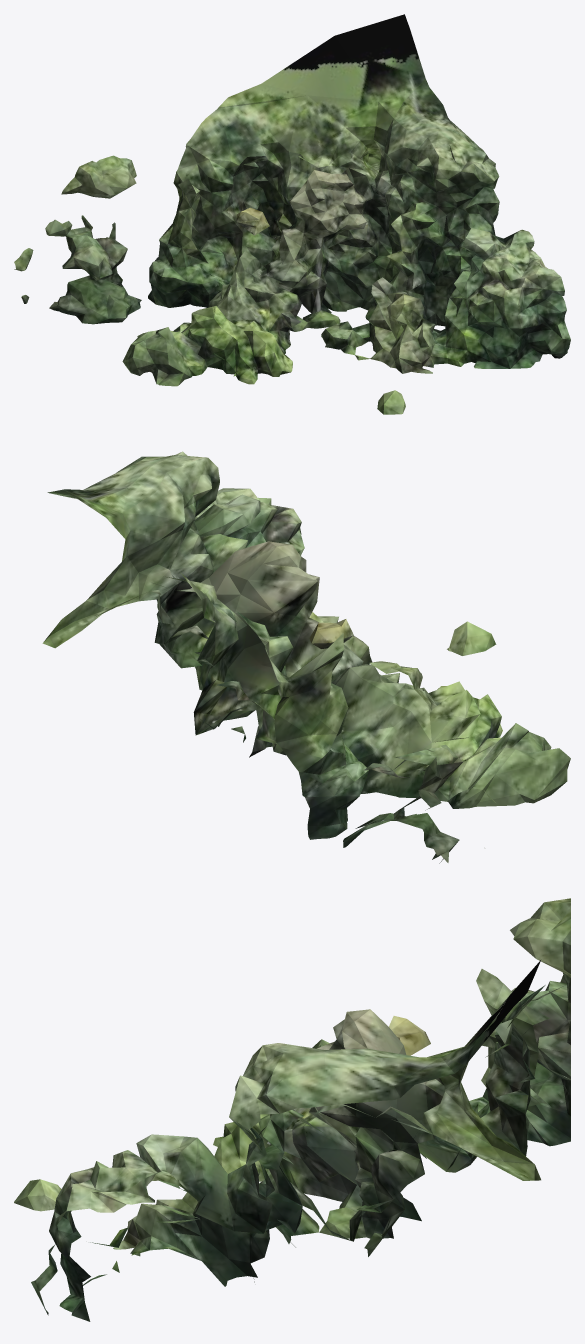
3 renders of one model, top to bottom at view 1: azimuth 30°, elevation 25°; view 2: azimuth 150°, elevation 25°; view 3: azimuth 270°, elevation 25°, orthographic. The views are drawn at different scales.
Bounding box in the file's own units: 52.22 × 30.39 × 45.53.
Materials: 3 (3 with a texture image).
